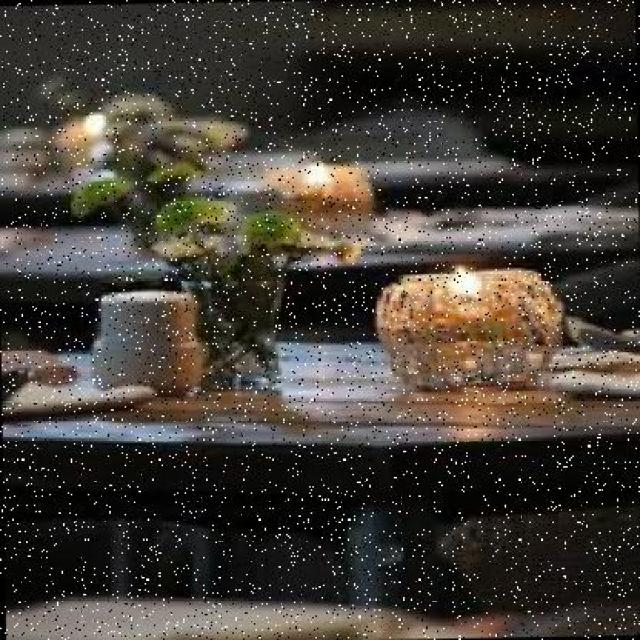fire: (442, 254, 489, 300)
